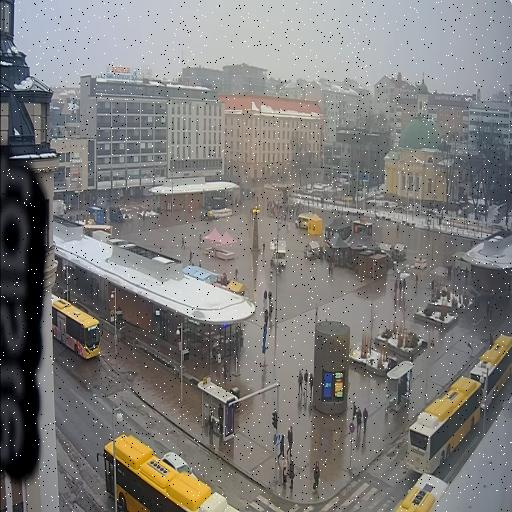bus: (97, 435, 239, 511), (407, 377, 481, 472), (471, 334, 512, 410), (52, 295, 100, 359), (396, 474, 448, 511)
